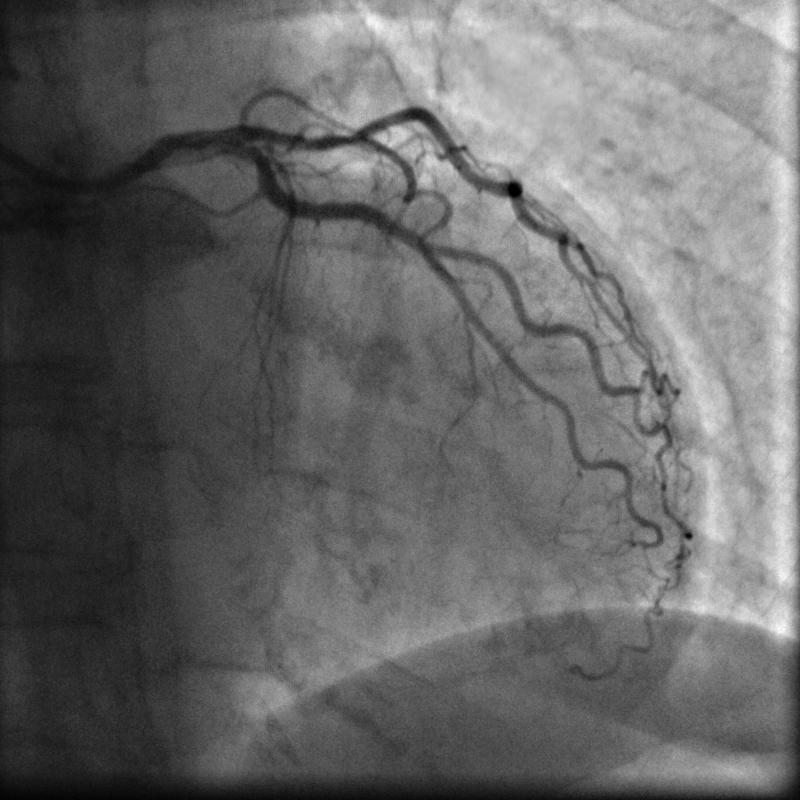Stenosis: (304, 132, 335, 150)
